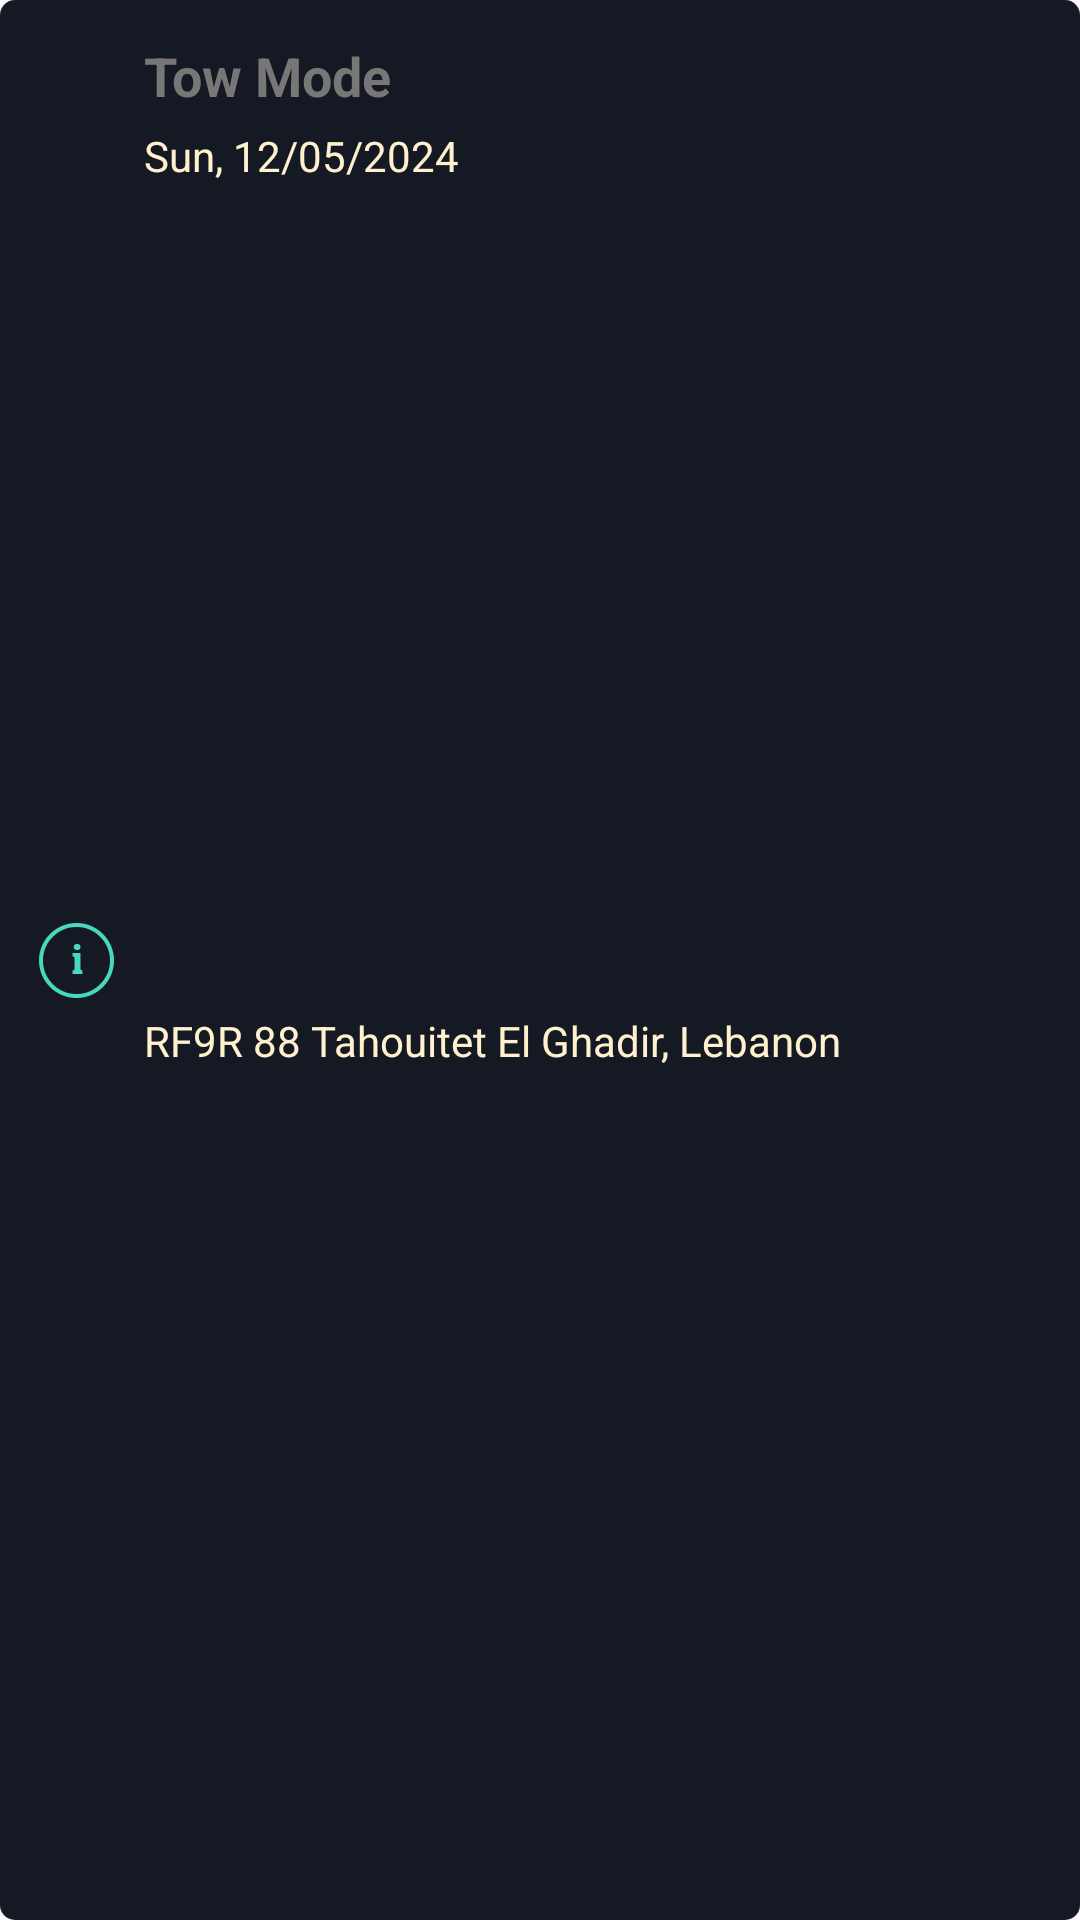

Named icons in this screenshot (1080w x 1920h) and their bounding boxes, [x1,y1,x2,y2]:
Information: [39,923,114,998]
